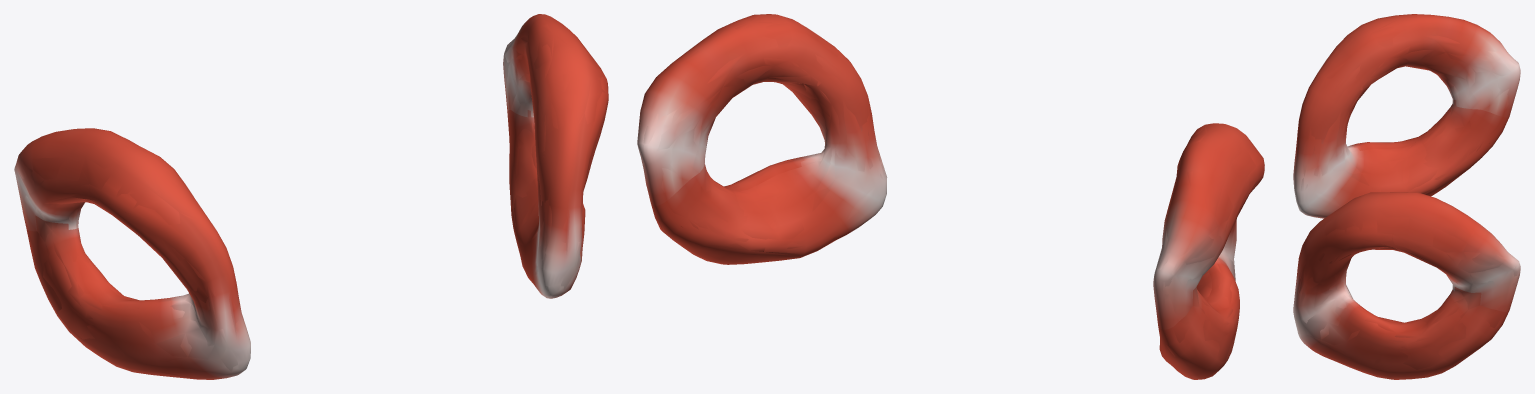
File: Orbicularis Oculi.fbx
3 views of the same model, side by side, from view 1: azimuth 30°, elevation 25°; view 2: azimuth 150°, elevation 25°; view 3: azimuth 270°, elevation 25° (orthographic). The views are drawn at different scales.
Visible parts, largest first — view 1: Orbicularis Oculi, Orbicularis Oculi low; view 2: Orbicularis Oculi, Orbicularis Oculi low; view 3: Orbicularis Oculi, Orbicularis Oculi low.
Part boxes in pixels (<box>): Orbicularis Oculi: <box>14,14,608,379</box>; Orbicularis Oculi low: <box>14,14,607,377</box>; Orbicularis Oculi: <box>637,14,1264,379</box>; Orbicularis Oculi low: <box>637,14,1263,379</box>; Orbicularis Oculi: <box>1293,14,1520,379</box>; Orbicularis Oculi low: <box>1293,16,1518,379</box>.
Bounding box in the file's own units: 22.72 × 9.27 × 10.14.
